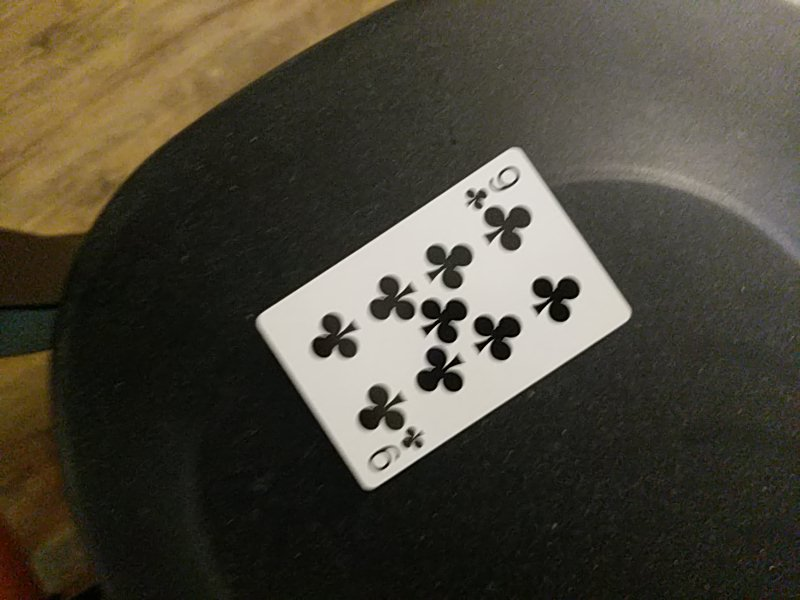Clubs: (257, 148, 629, 473)
